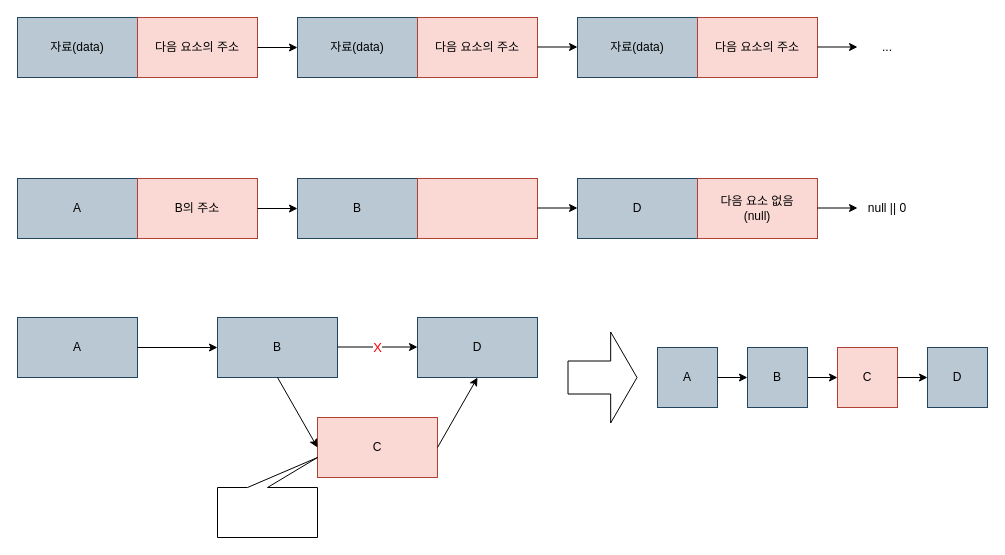
This 1005x555 diagram has some shape labels left out. The shapes that lost their labels are listed below. From the top down, each one's box as (x1, y1, x2, y2) in pixels, then its label:
(416, 178, 538, 238): D의 주소
(216, 456, 318, 538): C 추가
